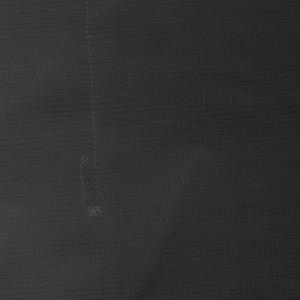Damage: (73, 151, 106, 225)
Wrinkle: (231, 1, 300, 300), (113, 141, 219, 300), (1, 1, 117, 124)
